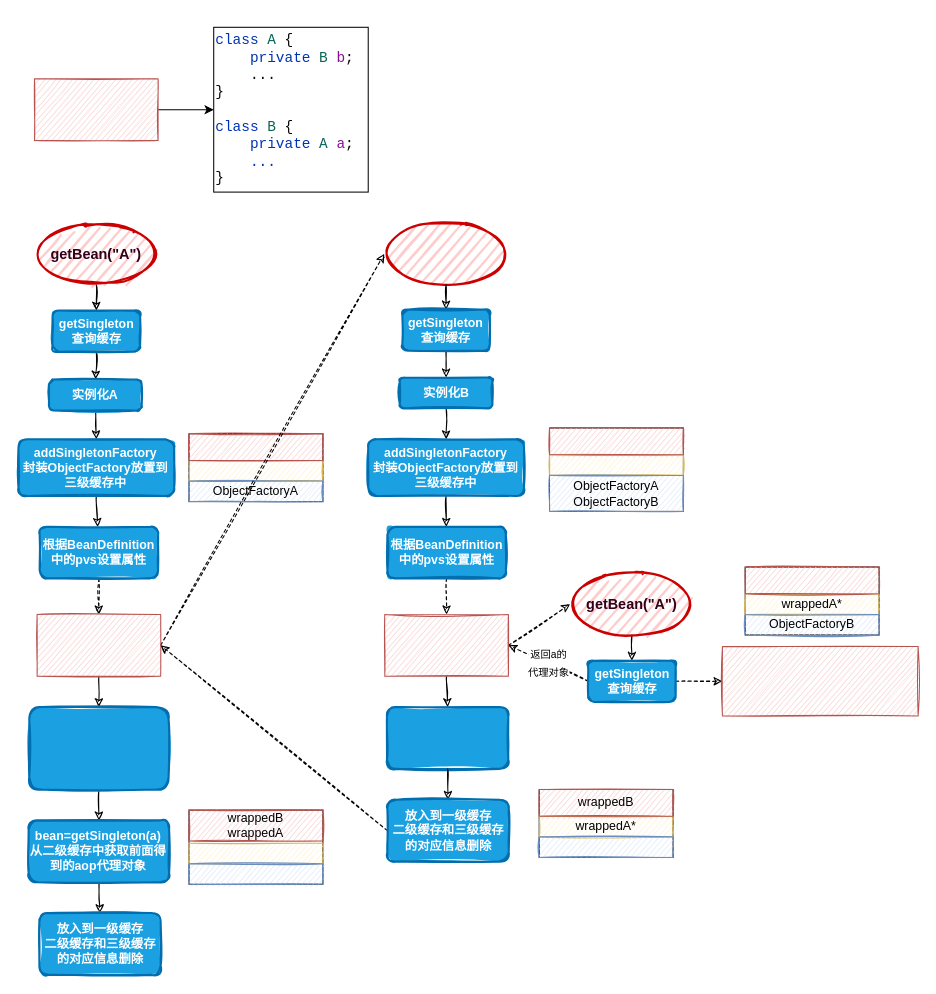
Some shapes in this 936 by 994 pixel diagram are drawn without their labels. Each missing label, with the centre of its shape:
getBean(" B "): [445,253]
初始化等逻辑，在初始化后置处理中转为aop代理对象返回: [447,737]
初始化等逻辑，在初始化后置处理中，由于a存在于二级缓存中，所以不再重复封装成代理对象: [98,748]
发现a属性是BeanReference，需要getBean(a): [446,644]
发现b属性是BeanReference，需要getBean(b): [98,644]
类依赖关系: [95,109]
这次发现三级缓存中存在，调用对应ObjectFactory#getObject方法得到A的代理对象（如果aop需要），并将其放入到二级缓存中: [819,681]
